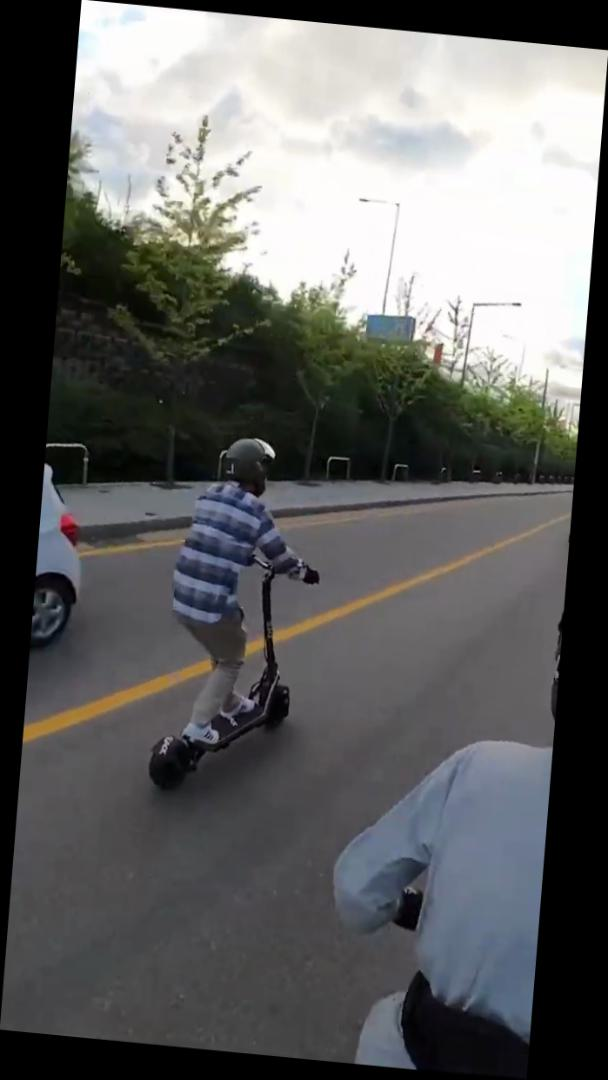helmet: (143, 425, 336, 811)
